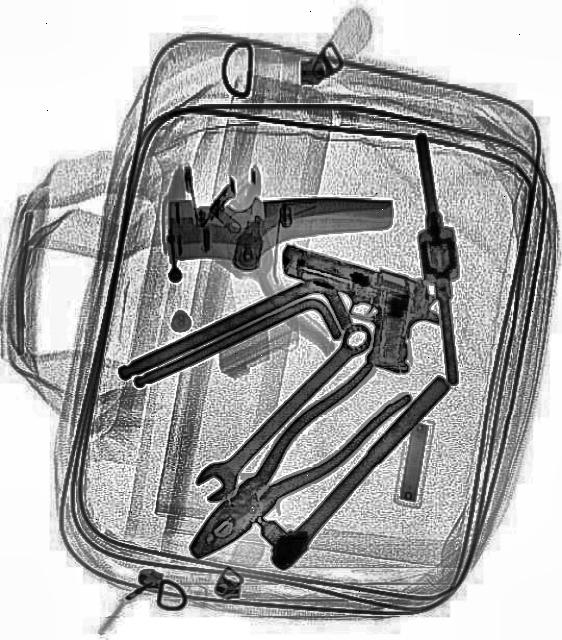Gun: (259, 240, 449, 380)
Pliers: (170, 350, 412, 578)
Wrench: (189, 312, 379, 510)
